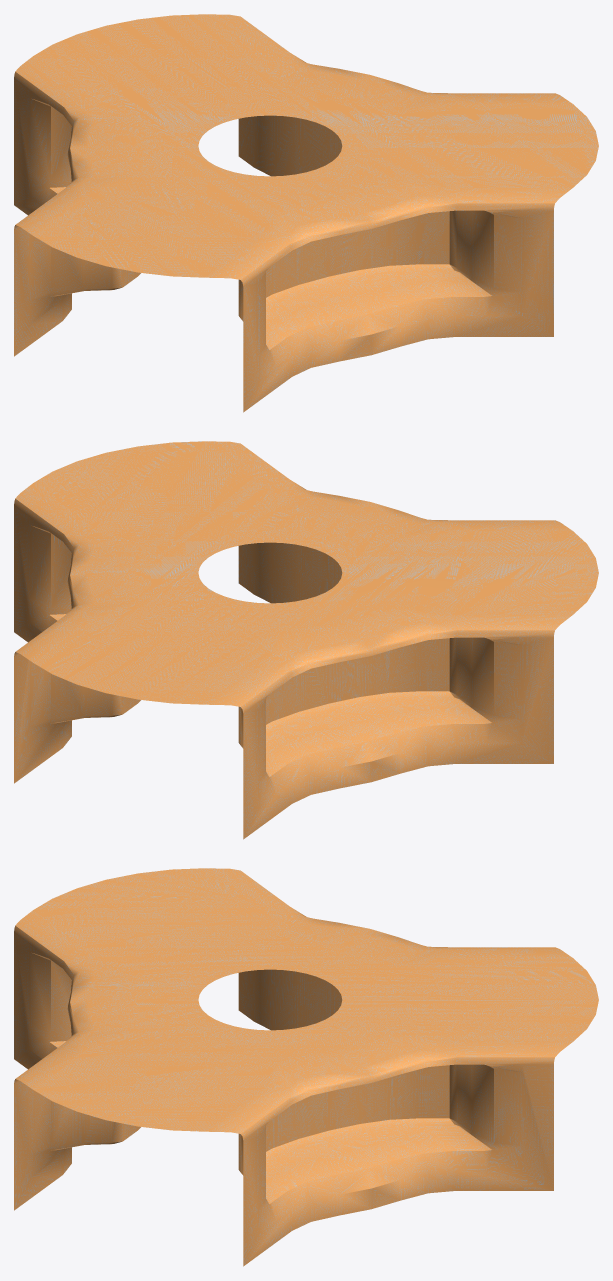
Rendered from original-23.obj.
The picture shows the model from 3 angles, top to bottom: view 1: azimuth 30°, elevation 25°; view 2: azimuth 150°, elevation 25°; view 3: azimuth 270°, elevation 25°; orthographic projection.
Visible parts, largest first — view 1: mesh20/mesh20-geometry#mesh20-geometry; view 2: mesh20/mesh20-geometry#mesh20-geometry; view 3: mesh20/mesh20-geometry#mesh20-geometry.
Boxes of the visible parts, x1,y1,x2,y2 form: mesh20/mesh20-geometry#mesh20-geometry: (14, 14, 598, 412); mesh20/mesh20-geometry#mesh20-geometry: (14, 441, 598, 839); mesh20/mesh20-geometry#mesh20-geometry: (14, 868, 598, 1266).
Size of the model in its own units: 0.1308 by 0.0312 by 0.1227.
